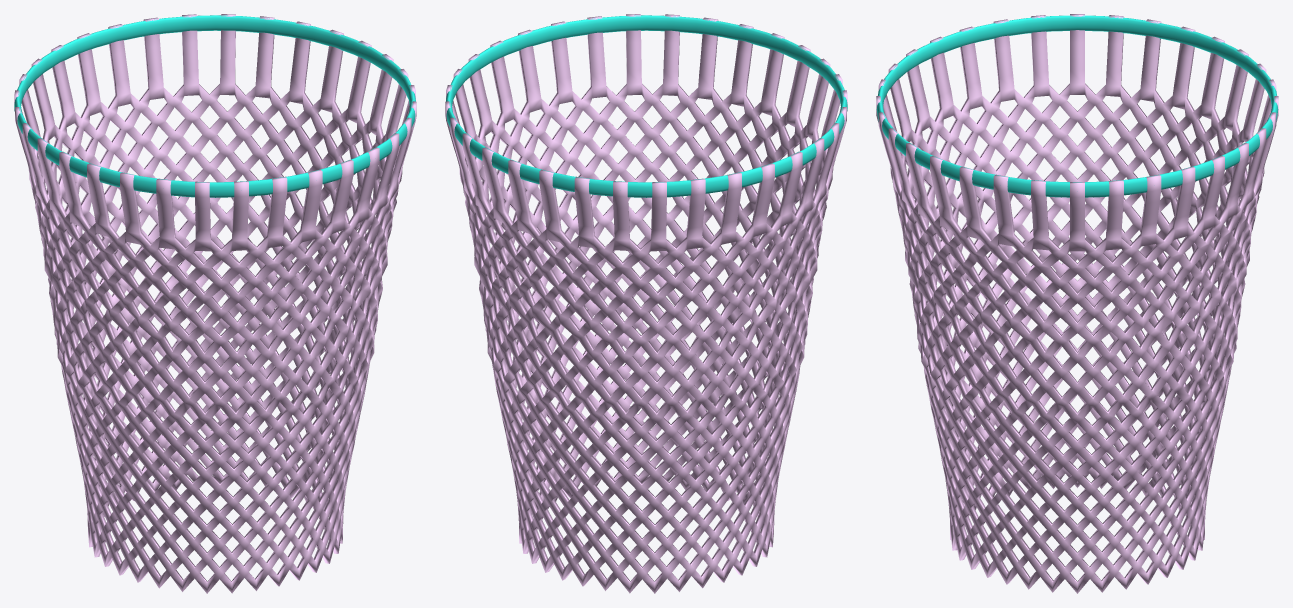
Rendered from cloth_object.obj.
The picture shows the model from 3 angles, left to right: view 1: azimuth 30°, elevation 25°; view 2: azimuth 150°, elevation 25°; view 3: azimuth 270°, elevation 25°; orthographic projection.
Visible parts, largest first — view 1: Cylinder, Torus; view 2: Cylinder, Torus; view 3: Cylinder, Torus.
Boxes of the visible parts, <box> form: Cylinder: <box>14,14,416,593</box>; Torus: <box>14,15,415,197</box>; Cylinder: <box>445,14,847,593</box>; Torus: <box>446,15,847,197</box>; Cylinder: <box>876,14,1278,593</box>; Torus: <box>876,15,1278,197</box>.
Size of the model in its own units: 2.04 by 2.47 by 2.04.
Materials: 2 (2 with a texture image).
